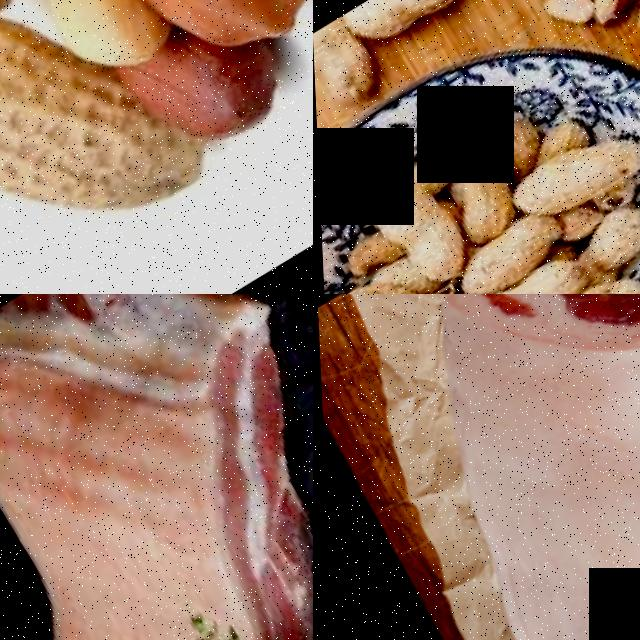peanuts: (0, 0, 109, 294), (112, 0, 313, 89), (495, 116, 640, 238), (9, 0, 181, 100), (359, 166, 474, 294), (443, 210, 568, 294), (429, 153, 528, 254), (340, 0, 470, 59), (442, 249, 593, 294)
pork belly: (0, 294, 313, 640), (344, 294, 640, 640)
